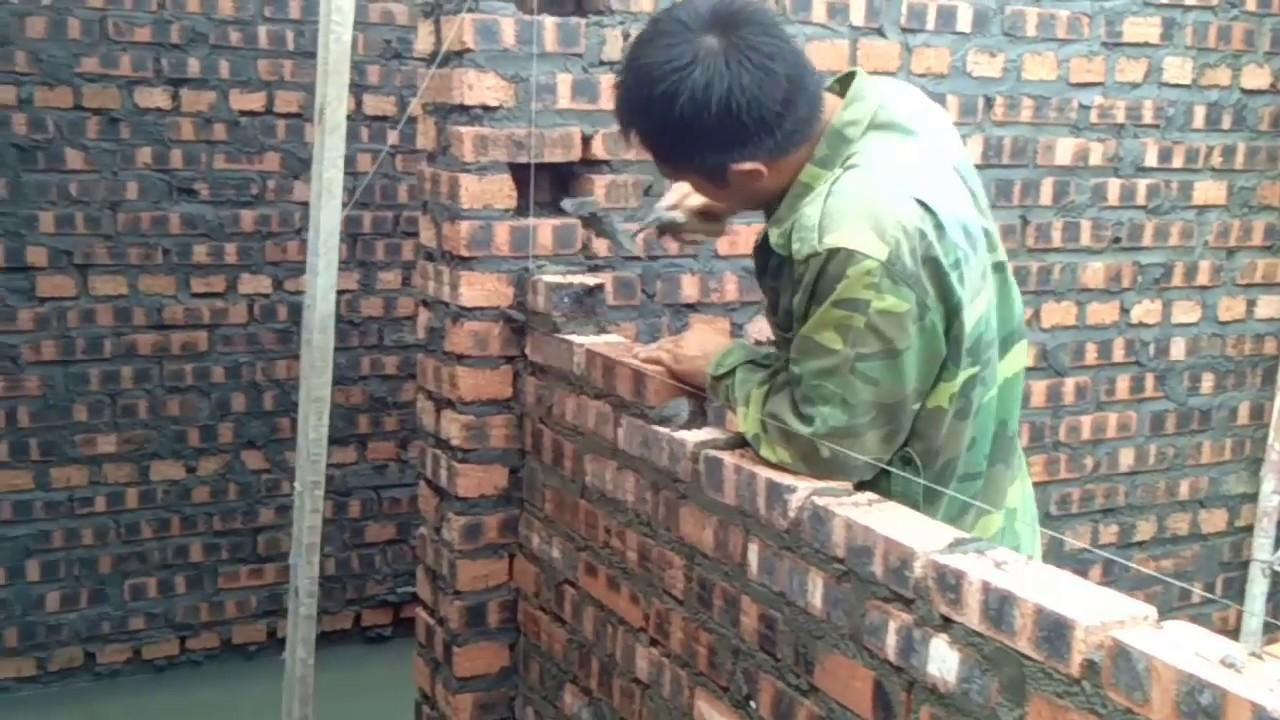Person: (610, 0, 1043, 561)
bare-arms: (629, 315, 737, 400)
no-helmet: (612, 0, 812, 130)
no-vest: (748, 166, 1056, 533)
